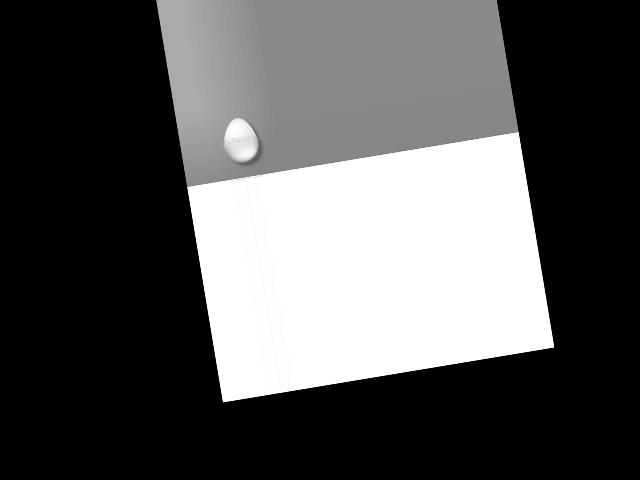egg: (219, 114, 261, 164)
